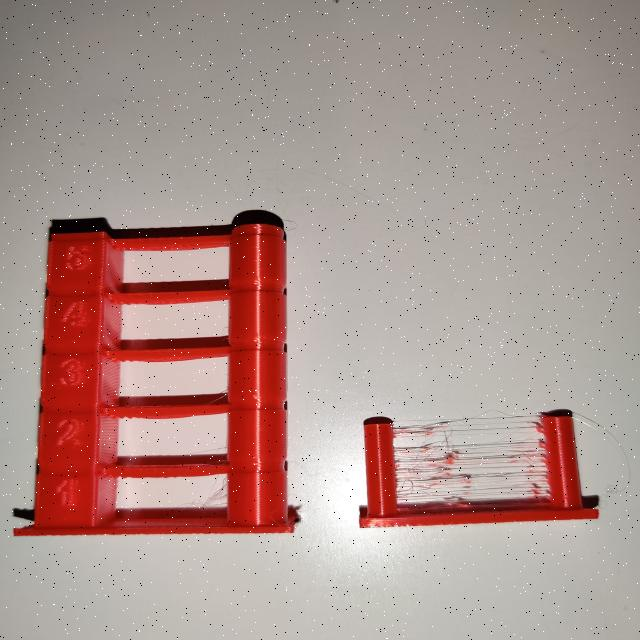stringing: (391, 412, 548, 494)
